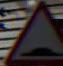Speed Breaker ahead: (15, 13, 62, 61)
